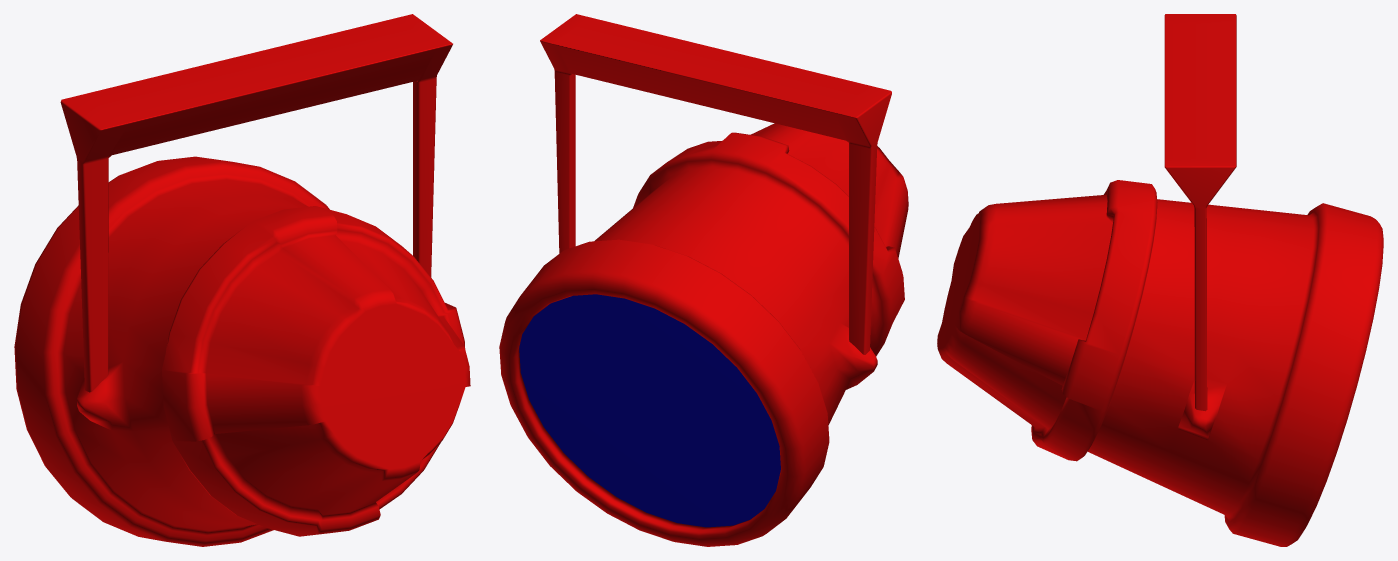
The model's file is SM_StageLight.fbx.
The picture shows the model from 3 angles, left to right: view 1: azimuth 30°, elevation 25°; view 2: azimuth 150°, elevation 25°; view 3: azimuth 270°, elevation 25°; orthographic projection. The views are drawn at different scales.
Visible parts, largest first — view 1: stage_light; view 2: stage_light; view 3: stage_light.
Boxes of the visible parts, bbox=[...] form: stage_light: bbox=[14, 14, 470, 546]; stage_light: bbox=[499, 14, 908, 546]; stage_light: bbox=[937, 14, 1383, 546].
Size of the model in its own units: 5 by 6.62 by 6.08.
